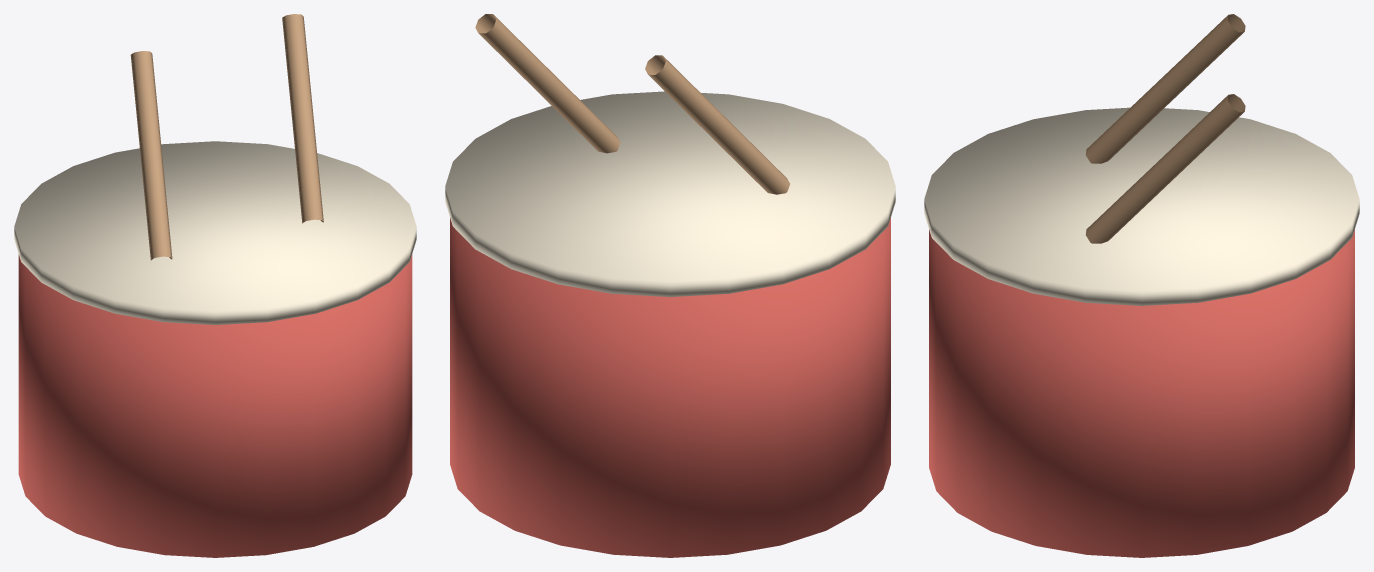
Rendered from word-drum.glb.
3 views of the same model, side by side, from view 1: azimuth 30°, elevation 25°; view 2: azimuth 150°, elevation 25°; view 3: azimuth 270°, elevation 25° (orthographic). The views are drawn at different scales.
Parts seen in each view (by area): view 1: drum shell, drum skin, drumstick, drumstick.001; view 2: drum shell, drum skin, drumstick.001, drumstick; view 3: drum shell, drum skin, drumstick.001, drumstick.
Part boxes in pixels (x1,y1,x2,y2): drum shell: (18, 254, 412, 557); drum skin: (14, 141, 416, 324); drumstick: (130, 51, 172, 260); drumstick.001: (282, 14, 323, 223); drum shell: (450, 218, 890, 557); drum skin: (445, 91, 895, 296); drumstick.001: (475, 14, 620, 153); drumstick: (645, 55, 789, 194); drum shell: (929, 229, 1354, 557); drum skin: (924, 107, 1359, 305); drumstick.001: (1085, 94, 1245, 243); drumstick: (1085, 14, 1245, 163).
Bounding box in the file's own units: 0.92 × 1.02 × 0.92.
